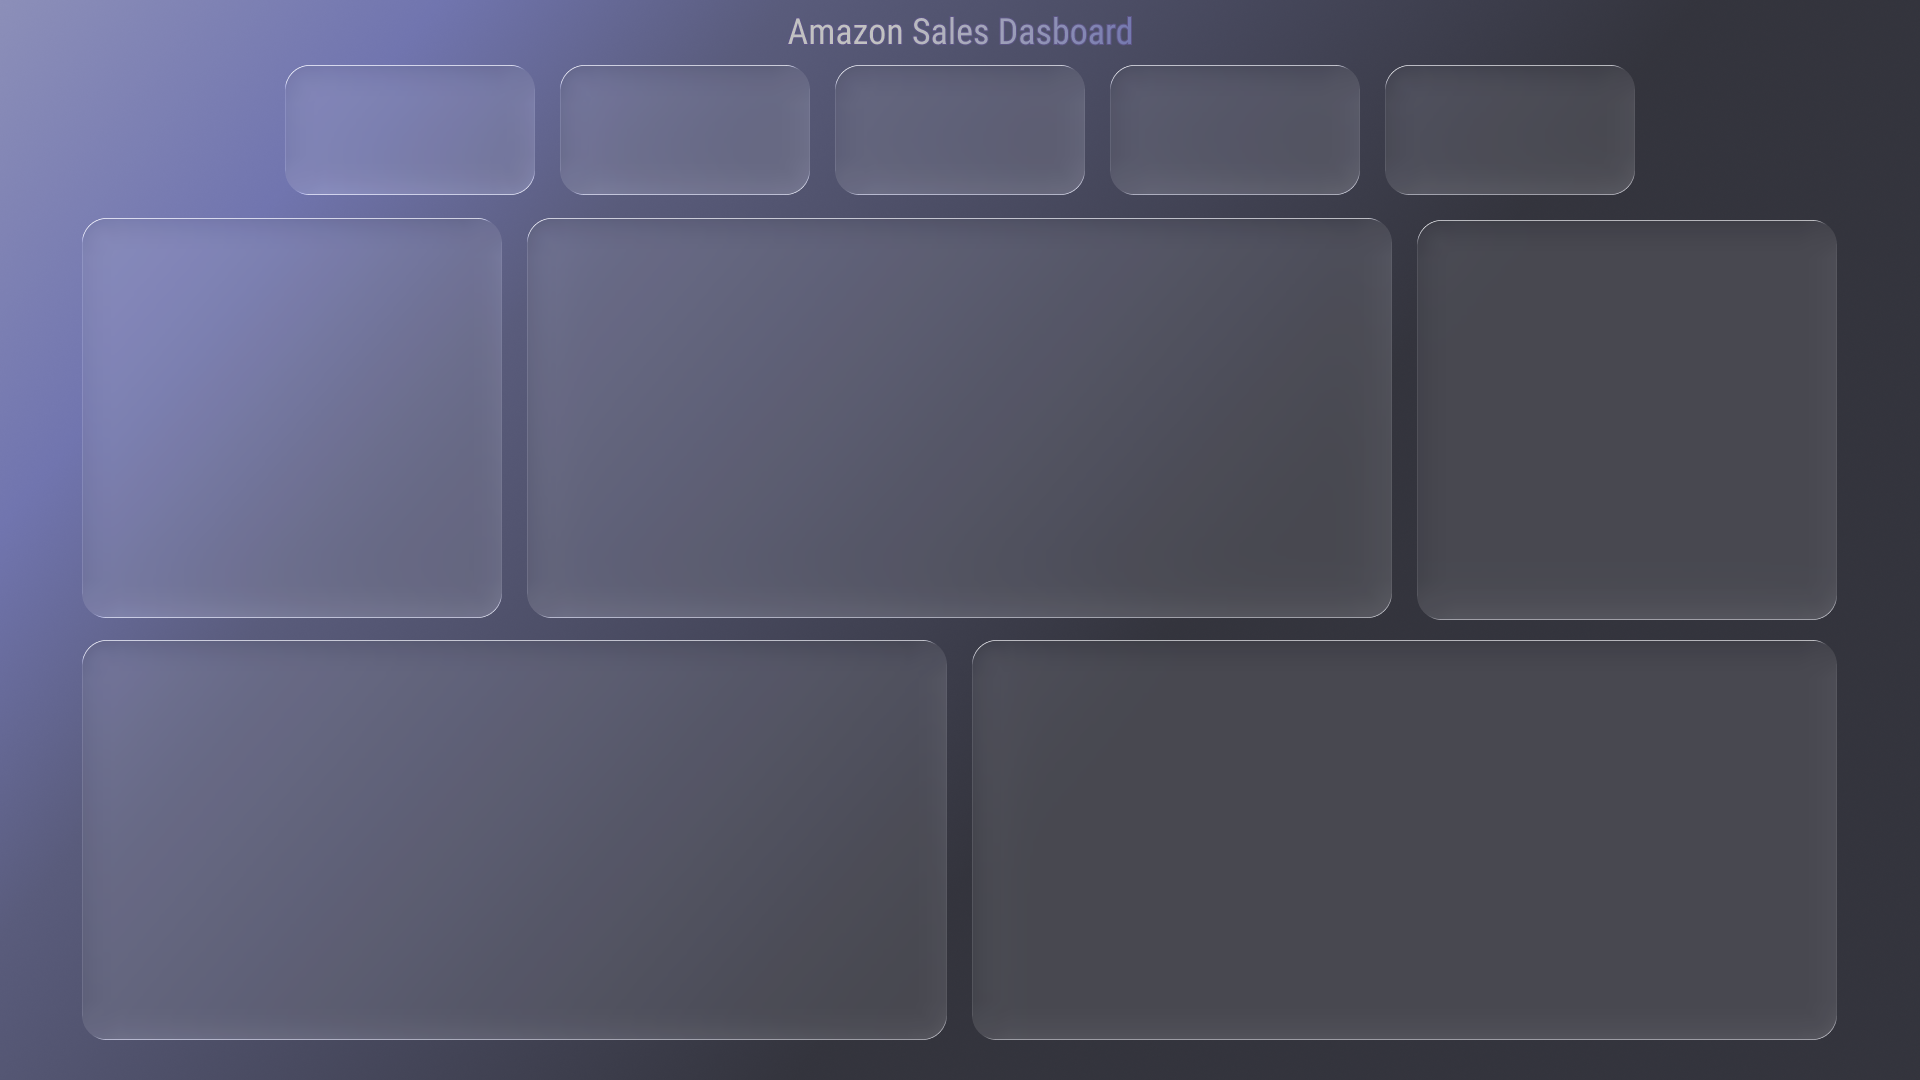

The page's visual inventory and layout, read from the dashboard file:
{"tool":"powerbi","page":{"name":"Page 1","canvas":[1280,720],"ordinal":0},"visuals":[{"type":"card","fields":{"Values":["amazon_sales.Total Revenue"]},"box":[191.2,42.5,165,85],"z":0},{"type":"card","fields":{"Values":["amazon_sales.Total Orders"]},"box":[374.4,42.5,165,85],"z":1000},{"type":"card","fields":{"Values":["amazon_sales.Total Quantity"]},"box":[557.5,42.5,165,85],"z":2000},{"type":"card","fields":{"Values":["amazon_sales.Completion Rate"]},"box":[923.8,42.5,165,85],"z":3000},{"type":"card","fields":{"Values":["amazon_sales.Average Order Value"]},"box":[741.2,42.5,165,85],"z":4000},{"type":"barChart","fields":{"Category":["amazon_sales.Category"],"Y":["amazon_sales.Total Revenue"]},"box":[651.2,426.2,571.2,262.5],"z":5000},{"type":"lineChart","fields":{"Category":["amazon_sales.Date.Variation.Date Hierarchy.Month","amazon_sales.Date.Variation.Date Hierarchy.Day"],"Y":["amazon_sales.Total Revenue"]},"box":[355.7,145.2,568.6,263.4],"z":6000},{"type":"columnChart","fields":{"Category":["amazon_sales.Product"],"Y":["amazon_sales.Total Revenue"]},"box":[57.5,426.2,570,262.5],"z":7000},{"type":"donutChart","fields":{"Category":["amazon_sales.Status"],"Y":["amazon_sales.Total Orders"]},"box":[946.2,145,276.2,263.8],"z":8000},{"type":"advancedSlicerVisual","title":"Month","fields":{"Values":["amazon_sales.Month Name"]},"box":[57.8,145.2,274.5,120.6],"z":9000},{"type":"advancedSlicerVisual","title":"Category","fields":{"Values":["amazon_sales.Category"]},"box":[57.8,288,274.5,120.6],"z":10000}]}

Visuals, with their boxes in screenshot pixels (x1, y1, x2, y2), scaled from the page's 1280x720 canvas onto the 1920x1080 screenshot:
card - amazon_sales.Total Revenue: (x1=287, y1=64, x2=534, y2=191)
card - amazon_sales.Total Orders: (x1=562, y1=64, x2=809, y2=191)
card - amazon_sales.Total Quantity: (x1=836, y1=64, x2=1084, y2=191)
card - amazon_sales.Completion Rate: (x1=1386, y1=64, x2=1633, y2=191)
card - amazon_sales.Average Order Value: (x1=1112, y1=64, x2=1359, y2=191)
barChart - amazon_sales.Category x amazon_sales.Total Revenue: (x1=977, y1=639, x2=1834, y2=1033)
lineChart - amazon_sales.Date.Variation.Date Hierarchy.Month x amazon_sales.Date.Variation.Date Hierarchy.Day: (x1=534, y1=218, x2=1386, y2=613)
columnChart - amazon_sales.Product x amazon_sales.Total Revenue: (x1=86, y1=639, x2=941, y2=1033)
donutChart - amazon_sales.Status x amazon_sales.Total Orders: (x1=1419, y1=218, x2=1834, y2=613)
"Month" advancedSlicerVisual: (x1=87, y1=218, x2=498, y2=399)
"Category" advancedSlicerVisual: (x1=87, y1=432, x2=498, y2=613)
